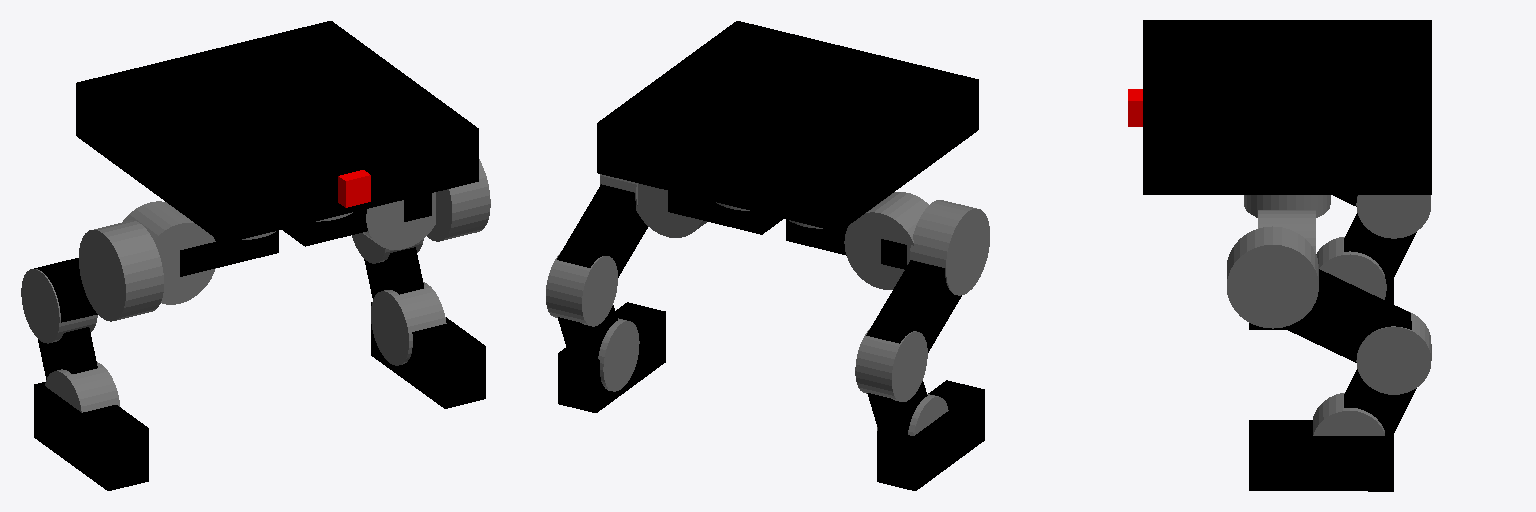
robot.urdf — mybot:
<?xml version="1.0"?>
<robot name="mybot">
  <material name="black">
    <color rgba="0 0 0 1"/>
  </material>
  <material name="grey">
    <color rgba="0.5 0.5 0.5 1"/>
  </material>
  <material name="red">
    <color rgba="1 0 0 1"/>
  </material>

  <link name="camera">
    <visual>
      <geometry>
        <box size="0.05 0.05 0.05"/>
        <origin rpy="0 0 0" xyz="0 0 0"/>
      </geometry>
      <material name="red" />
    </visual>
    <collision>
      <geometry>
        <box size="0.1 0.1 0.1"/>
        <origin rpy="0 0 0" xyz="0 0 0"/>
      </geometry>    
    </collision>
    <inertial>
      <mass value="0.1"/>
      <inertia ixx="0.1" ixy="0" ixz="0" iyy="0.1" iyz="0" izz="0.1"/>
    </inertial>
  </link>

  <joint name="joint_camera_base_link" type="fixed">
    <origin rpy="0 0 0" xyz="0 -0.25 0"/>
    <parent link="base_link"/>
    <child link="camera"/>
  </joint>

  <link name="base_link">
    <visual>
      <geometry>
        <box size="0.5 0.5 0.1"/>
        <origin rpy="0 0 0" xyz="0 0 0"/>
      </geometry>
      <material name="black" />
    </visual>
    <collision>
      <geometry>
        <box size="0.5 0.5 0.1"/>
        <origin rpy="0 0 0" xyz="0 0 0"/>
      </geometry>
    </collision>
    <inertial>
      <mass value="1"/>
      <inertia ixx="0.1" ixy="0" ixz="0" iyy="0.1" iyz="0" izz="0.1"/>
    </inertial>
  </link>

  <link name="link1_1">
    <visual>
      <geometry>
        <cylinder length="0.1" radius="0.075"/>
        <origin rpy="0 0 0" xyz="0 0 0"/>
      </geometry>
      <material name="grey" />
    </visual>
    <collision>
      <geometry>
        <cylinder length="0.1" radius="0.075"/>
        <origin rpy="0 0 0" xyz="0 0 0"/>
      </geometry>
    </collision>
    <inertial>
      <mass value="1"/>
      <inertia ixx="0.1" ixy="0" ixz="0" iyy="0.1" iyz="0" izz="0.1"/>
    </inertial>
  </link>

  <joint name="joint_base_link1_1" type="revolute">
    <origin rpy="0 0 0" xyz="0.075 0 -0.1"/>
    <parent link="base_link"/>
    <child link="link1_1"/>
    <axis xyz="0 0 1"/>
    <limit effort="100" velocity="1" lower="-0.26017" upper="0.26017"/>
  </joint>

  <link name="link1_2">
    <visual>
        <geometry>
            <cylinder length="0.1" radius="0.075"/>
            <origin rpy="0 0 0" xyz="0 0 0"/>
        </geometry>
        <material name="grey" />
    </visual>
    <collision>
        <geometry>
            <cylinder length="0.1" radius="0.075"/>
            <origin rpy="0 0 0" xyz="0 0 0"/>
        </geometry>
    </collision>
    <inertial>
        <mass value="1"/>
        <inertia ixx="0.1" ixy="0" ixz="0" iyy="0.1" iyz="0" izz="0.1"/>
    </inertial>
  </link>

  <joint name="joint_base_link1_2" type="revolute">
    <origin rpy="0 0 0" xyz="-0.075 0 -0.1"/>
    <parent link="base_link"/>
    <child link="link1_2"/>
    <axis xyz="0 0 1"/>
    <limit effort="100" velocity="1" lower="-0.26017" upper="0.26017"/>
  </joint>

  <link name="link2_1">
    <visual>
      <geometry>
        <box size="0.25 0.1 0.05"/>
        <origin rpy="0 0 0" xyz="0 0 0"/>
      </geometry>
      <material name="black" />
    </visual>
    <collision>
      <geometry>
        <box size="0.25 0.1 0.05"/>
        <origin rpy="0 0 0" xyz="0 0 0"/>
      </geometry>
    </collision>
    <inertial>
      <mass value="1"/>
      <inertia ixx="0.1" ixy="0" ixz="0" iyy="0.1" iyz="0" izz="0.1"/>
    </inertial>
  </link>

  <joint name="joint_link1_1_link2_1" type="fixed">
    <origin rpy="0 0 0" xyz="0.075 0 -0.075"/>
    <parent link="link1_1"/>
    <child link="link2_1"/>
  </joint>

  <link name="link2_2">
    <visual>
      <geometry>
        <box size="0.25 0.1 0.05"/>
        <origin rpy="0 0 0" xyz="0 0 0"/>
      </geometry>
      <material name="black" />
    </visual>
    <collision>
      <geometry>
        <box size="0.25 0.1 0.05"/>
        <origin rpy="0 0 0" xyz="0 0 0"/>
      </geometry>
    </collision>
    <inertial>
      <mass value="1"/>
      <inertia ixx="0.1" ixy="0" ixz="0" iyy="0.1" iyz="0" izz="0.1"/>
    </inertial>
  </link>

  <joint name="joint_link1_2_link2_2" type="fixed">
    <origin rpy="0 0 0" xyz="-0.075 0 -0.075"/>
    <parent link="link1_2"/>
    <child link="link2_2"/>
  </joint>

  <link name="link3">
    <visual>
      <geometry>
        <cylinder length="0.1" radius="0.075"/>
        <origin rpy="0 0 0" xyz="0 0 0"/>
      </geometry>
      <material name="grey" />
    </visual>
    <collision>
      <geometry>
        <cylinder length="0.1" radius="0.075"/>
        <origin rpy="0 0 0" xyz="0 0 0"/>
      </geometry>
    </collision>
    <inertial>
      <mass value="1"/>
      <inertia ixx="0.1" ixy="0" ixz="0" iyy="0.1" iyz="0" izz="0.1"/>
    </inertial>
  </link>

  <joint name="joint_link2_link3" type="revolute">
    <origin rpy="1.57 1.57 0" xyz="0.07 0 0"/>
    <parent link="link2_1"/>
    <child link="link3"/>
    <axis xyz="0 0 1"/>
    <limit effort="100" velocity="1" lower="-0.13" upper="0.13"/>
  </joint>

  <link name="link4">
    <visual>
      <geometry>
        <cylinder length="0.1" radius="0.075"/>
        <origin rpy="0 0 0" xyz="0 0 0"/>
      </geometry>
      <material name="grey" />
    </visual>
    <collision>
      <geometry>
        <cylinder length="0.1" radius="0.075"/>
        <origin rpy="0 0 0" xyz="0 0 0"/>
      </geometry>
    </collision>
    <inertial>
      <mass value="1"/>
      <inertia ixx="0.1" ixy="0" ixz="0" iyy="0.1" iyz="0" izz="0.1"/>
    </inertial>
  </link>

  <joint name="joint_link2_link4" type="revolute">
    <origin rpy="1.57 1.57 0" xyz="-0.07 0 0.0"/>
    <parent link="link2_2"/>
    <child link="link4"/>
    <axis xyz="0 0 1"/>
    <limit effort="100" velocity="1" lower="-0.13" upper="0.13"/>
  </joint>

  <link name="link5">
    <visual>
      <geometry>
        <cylinder length="0.075" radius="0.08"/>
        <origin rpy="0 0 0" xyz="0 0 0"/>
      </geometry>
      <material name="grey" />
    </visual>
    <collision>
      <geometry>
        <cylinder length="0.075" radius="0.08"/>
        <origin rpy="0 0 0" xyz="0 0 0"/>
      </geometry>
    </collision>
    <inertial>
      <mass value="1"/>
      <inertia ixx="0.1" ixy="0" ixz="0" iyy="0.1" iyz="0" izz="0.1"/>
    </inertial>
  </link>

  <joint name="joint_link3_link5" type="revolute">
    <origin rpy="1.57 0.2 0" xyz="0 0.1 0.025"/>
    <parent link="link3"/>
    <child link="link5"/>
    <axis xyz="0 0 1"/>
    <limit effort="100" velocity="1" lower="-0.165" upper="0.365"/>
  </joint>

  <link name="link6">
    <visual>
      <geometry>
        <cylinder length="0.075" radius="0.08"/>
        <origin rpy="0 0 0" xyz="0 0 0"/>
      </geometry>
      <material name="grey" />
    </visual>
    <collision>
      <geometry>
        <cylinder length="0.075" radius="0.08"/>
        <origin rpy="0 0 0" xyz="0 0 0"/>
      </geometry>
    </collision>
    <inertial>
      <mass value="1"/>
      <inertia ixx="0.1" ixy="0" ixz="0" iyy="0.1" iyz="0" izz="0.1"/>
    </inertial>
  </link>

  <joint name="joint_link4_link6" type="revolute">
    <origin rpy="1.57 0.2 0" xyz="0 -0.1 0.025"/>
    <parent link="link4"/>
    <child link="link6"/>
    <axis xyz="0 0 1"/>
    <limit effort="100" velocity="1" lower="-0.165" upper="0.365"/>
  </joint>

  <link name="link7">
    <visual>
      <geometry>
        <box size="0.25 0.1 0.07"/>
        <origin rpy="0 0 0" xyz="0 0 0"/>
      </geometry>
      <material name="black" />
    </visual>
    <collision>
      <geometry>
        <box size="0.25 0.1 0.07"/>
        <origin rpy="0 0 0" xyz="0 0 0"/>
      </geometry>
    </collision>
    <inertial>
      <mass value="1"/>
      <inertia ixx="0.1" ixy="0" ixz="0" iyy="0.1" iyz="0" izz="0.1"/>
    </inertial>
  </link>

  <joint name="joint_link5_link7" type="fixed">
    <origin rpy="0 0 -0.885" xyz="0.09 -0.09 0"/>
    <parent link="link5"/>
    <child link="link7"/>
    <axis xyz="0 0 1"/>
    <limit effort="100" velocity="1" lower="-0.065" upper="0.565"/>
  </joint>

  <link name="link8">
    <visual>
      <geometry>
        <box size="0.25 0.1 0.07"/>
        <origin rpy="0 0 0" xyz="0 0 0"/>
      </geometry>
      <material name="black" />
    </visual>
    <collision>
      <geometry>
        <box size="0.25 0.1 0.07"/>
        <origin rpy="0 0 0" xyz="0 0 0"/>
      </geometry>
    </collision>
    <inertial>
      <mass value="1"/>
      <inertia ixx="0.1" ixy="0" ixz="0" iyy="0.1" iyz="0" izz="0.1"/>
    </inertial>
  </link>

  <joint name="joint_link6_link8" type="fixed">
    <origin rpy="0 0 -0.885" xyz="0.09 -0.09 0"/>
    <parent link="link6"/>
    <child link="link8"/>
    <axis xyz="0 0 1"/>
    <limit effort="100" velocity="1" lower="-0.065" upper="0.565"/>
  </joint>

  <link name="link9">
    <visual>
      <geometry>
        <cylinder length="0.075" radius="0.065"/>
        <origin rpy="0 0 0" xyz="0 0 0"/>
      </geometry>
      <material name="grey" />
    </visual>
    <collision>
      <geometry>
        <cylinder length="0.075" radius="0.065"/>
        <origin rpy="0 0 0" xyz="0 0 0"/>
      </geometry>
    </collision>
    <inertial>
      <mass value="1"/>
      <inertia ixx="0.1" ixy="0" ixz="0" iyy="0.1" iyz="0" izz="0.1"/>
    </inertial>
  </link>

  <joint name="joint_link7_link9" type="revolute">
    <origin rpy="0 0 -0.885" xyz="0.125 0.015 0"/>
    <parent link="link7"/>
    <child link="link9"/>
    <axis xyz="0 0 1"/>
    <limit effort="100" velocity="1" lower="-0.065" upper="0.565"/>
  </joint>

  <link name="link10">
    <visual>
      <geometry>
        <cylinder length="0.075" radius="0.065"/>
        <origin rpy="0 0 0" xyz="0 0 0"/>
      </geometry>
      <material name="grey" />
    </visual>
    <collision>
      <geometry>
        <cylinder length="0.075" radius="0.065"/>
        <origin rpy="0 0 0" xyz="0 0 0"/>
      </geometry>
    </collision>
    <inertial>
      <mass value="1"/>
      <inertia ixx="0.1" ixy="0" ixz="0" iyy="0.1" iyz="0" izz="0.1"/>
    </inertial>
  </link>

  <joint name="joint_link8_link10" type="revolute">
    <origin rpy="0 0 -0.885" xyz="0.125 0.015 0"/>
    <parent link="link8"/>
    <child link="link10"/>
    <axis xyz="0 0 1"/>
    <limit effort="100" velocity="1" lower="-0.065" upper="0.565"/>
  </joint>

  <link name="link11">
    <visual>
      <geometry>
        <box size="0.2 0.1 0.05"/>
        <origin rpy="0 0 0" xyz="0 0 0"/>
      </geometry>
      <material name="black" />
    </visual>
    <collision>
      <geometry>
        <box size="0.2 0.1 0.05"/>
        <origin rpy="0 0 0" xyz="0 0 0"/>
      </geometry>
    </collision>
    <inertial>
      <mass value="1"/>
      <inertia ixx="0.1" ixy="0" ixz="0" iyy="0.1" iyz="0" izz="0.1"/>
    </inertial>
  </link>

  <joint name="joint_link9_link11" type="fixed">
    <origin rpy="0 0 -0.75" xyz="-0.05 0.06 0"/>
    <parent link="link9"/>
    <child link="link11"/>
    <axis xyz="0 0 1"/>
    <limit effort="100" velocity="1" lower="-0.065" upper="0.565"/>
  </joint>

  <link name="link12">
    <visual>
      <geometry>
        <box size="0.2 0.1 0.05"/>
        <origin rpy="0 0 0" xyz="0 0 0"/>
      </geometry>
      <material name="black" />
    </visual>
    <collision>
      <geometry>
        <box size="0.2 0.1 0.05"/>
        <origin rpy="0 0 0" xyz="0 0 0"/>
      </geometry>
    </collision>
    <inertial>
      <mass value="1"/>
      <inertia ixx="0.1" ixy="0" ixz="0" iyy="0.1" iyz="0" izz="0.1"/>
    </inertial>
  </link>

  <joint name="joint_link10_link12" type="fixed">
    <origin rpy="0 0 -0.75" xyz="-0.05 0.06 0"/>
    <parent link="link10"/>
    <child link="link12"/>
    <axis xyz="0 0 1"/>
    <limit effort="100" velocity="1" lower="-0.065" upper="0.565"/>
  </joint>

  <link name="link13">
    <visual>
      <geometry>
        <cylinder length="0.075" radius="0.065"/>
        <origin rpy="0 0 0" xyz="0 0 0"/>
      </geometry>
      <material name="grey" />
    </visual>
    <collision>
      <geometry>
        <cylinder length="0.075" radius="0.065"/>
        <origin rpy="0 0 0" xyz="0 0 0"/>
      </geometry>
    </collision>
    <inertial>
      <mass value="1"/>
      <inertia ixx="0.1" ixy="0" ixz="0" iyy="0.1" iyz="0" izz="0.1"/>
    </inertial>
  </link>

  <joint name="joint_link11_link13" type="revolute">
    <origin rpy="0 0 0" xyz="-0.1 -0.015 0"/>
    <parent link="link11"/>
    <child link="link13"/>
    <axis xyz="0 0 1"/>
    <limit effort="100" velocity="1" lower="-0.465" upper="0.165"/>
  </joint>

  <link name="link14">
    <visual>
      <geometry>
        <cylinder length="0.075" radius="0.065"/>
        <origin rpy="0 0 0" xyz="0 0 0"/>
      </geometry>
      <material name="grey" />
    </visual>
    <collision>
      <geometry>
        <cylinder length="0.075" radius="0.065"/>
        <origin rpy="0 0 0" xyz="0 0 0"/>
      </geometry>
    </collision>
    <inertial>
      <mass value="1"/>
      <inertia ixx="0.1" ixy="0" ixz="0" iyy="0.1" iyz="0" izz="0.1"/>
    </inertial>
  </link>

  <joint name="joint_link12_link14" type="revolute">
    <origin rpy="0 0 0" xyz="-0.1 -0.015 0"/>
    <parent link="link12"/>
    <child link="link14"/>
    <axis xyz="0 0 1"/>
    <limit effort="100" velocity="1" lower="-0.465" upper="0.165"/>
  </joint>

  <link name="link15">
    <visual>
      <geometry>
        <box size="0.1 0.25 0.08"/>
        <origin rpy="0 0 0" xyz="0 0 0"/>
      </geometry>
      <material name="black" />
    </visual>
    <collision>
      <geometry>
        <box size="0.1 0.25 0.08"/>
        <origin rpy="0 0 0" xyz="0 0 0"/>
      </geometry>
    </collision>
    <inertial>
      <mass value="1"/>
      <inertia ixx="0.1" ixy="0" ixz="0" iyy="0.1" iyz="0" izz="0.1"/>
    </inertial>
  </link>

  <joint name="joint_link13_link15" type="fixed">
    <origin rpy="0 0 -0.42" xyz="-0.05 -0.03 -0.01"/>
    <parent link="link13"/>
    <child link="link15"/>
    <axis xyz="0 0 1"/>
    <limit effort="100" velocity="1" lower="-0.465" upper="0.165"/>
  </joint>

  <link name="link16">
    <visual>
      <geometry>
        <box size="0.1 0.25 0.08"/>
        <origin rpy="0 0 0" xyz="0 0 0"/>
      </geometry>
      <material name="black" />
    </visual>
    <collision>
      <geometry>
        <box size="0.1 0.25 0.08"/>
        <origin rpy="0 0 0" xyz="0 0 0"/>
      </geometry>
    </collision>
    <inertial>
      <mass value="1"/>
      <inertia ixx="0.1" ixy="0" ixz="0" iyy="0.1" iyz="0" izz="0.1"/>
    </inertial>
  </link>

  <joint name="joint_link14_link16" type="fixed">
    <origin rpy="0 0 -0.42" xyz="-0.05 -0.03 0.01"/>
    <parent link="link14"/>
    <child link="link16"/>
    <axis xyz="0 0 1"/>
    <limit effort="100" velocity="1" lower="-0.465" upper="0.165"/>
  </joint>
</robot>

--- Render facts (derived) ---
3 views of the same robot in one strip: view 1: azimuth 30°, elevation 25°; view 2: azimuth 150°, elevation 25°; view 3: azimuth 270°, elevation 25° (orthographic).
Model mybot with 20 links and 19 joints (10 revolute, 9 fixed), rooted at base_link, posed all joints at 0.
Links seen in each view (by area): view 1: base_link, link16, link6, link15, link4, link13, link5, link10, link3, link14, link2_2, link2_1 (+5 smaller); view 2: base_link, link16, link6, link15, link8, link7, link4, link10, link9, link13, link2_1, link3 (+4 smaller); view 3: base_link, link15, link5, link7, link9, link10, link14, link13, link11, link12, link1_1, link3 (+1 smaller).
Boxes of the visible links, box(x1,y1,x2,y2) form: base_link: box(76, 21, 478, 243); link16: box(34, 382, 148, 490); link6: box(79, 220, 163, 321); link15: box(371, 302, 485, 408); link4: box(123, 201, 215, 304); link13: box(371, 282, 446, 365); link5: box(427, 159, 490, 241); link10: box(21, 269, 97, 343); link3: box(363, 192, 435, 249); link14: box(45, 362, 119, 412); link2_2: box(180, 231, 278, 276); link2_1: box(283, 193, 431, 246); base_link: box(597, 21, 978, 231); link16: box(877, 380, 984, 490); link6: box(910, 200, 989, 295); link15: box(558, 302, 665, 412); link8: box(866, 260, 961, 352); link7: box(557, 184, 647, 277); link4: box(844, 192, 928, 289); link10: box(855, 329, 927, 401); link9: box(546, 252, 617, 326); link13: box(598, 318, 639, 391); link2_1: box(668, 191, 782, 234); link3: box(636, 183, 706, 237); base_link: box(1143, 20, 1431, 194); link15: box(1249, 420, 1393, 491); link5: box(1227, 226, 1318, 328); link7: box(1283, 269, 1411, 362); link9: box(1356, 311, 1431, 394); link10: box(1356, 195, 1430, 238); link14: box(1316, 237, 1386, 299); link13: box(1313, 393, 1384, 435); link11: box(1344, 369, 1416, 432); link12: box(1344, 213, 1416, 276); link1_1: box(1244, 195, 1330, 217); link3: box(1258, 210, 1315, 253).
Bounding box of the posed robot: 0.7405 × 0.525 × 0.6104 m (x, y, z).
Geometry: primitives only (box / cylinder / sphere), no mesh files.